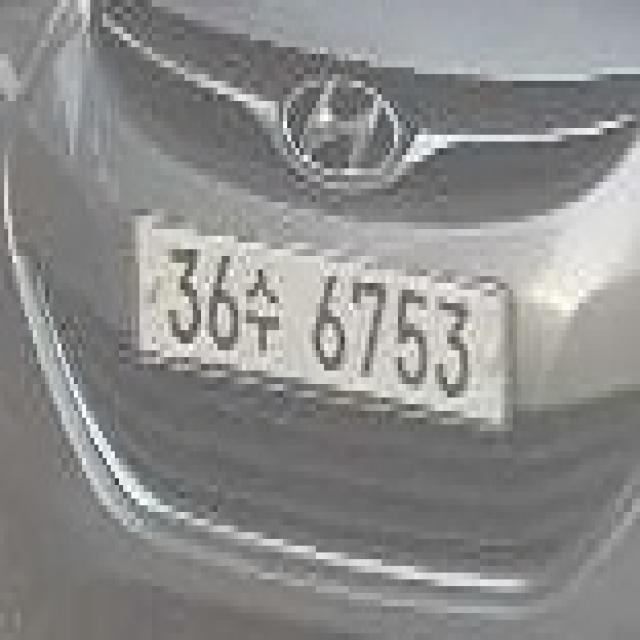3: (435, 296, 472, 404), (164, 242, 201, 344)
5: (394, 283, 431, 391)
6: (307, 270, 348, 370), (205, 249, 242, 357)
7: (348, 276, 386, 377)
license_plate: (131, 208, 513, 444)
su: (238, 263, 283, 357)
